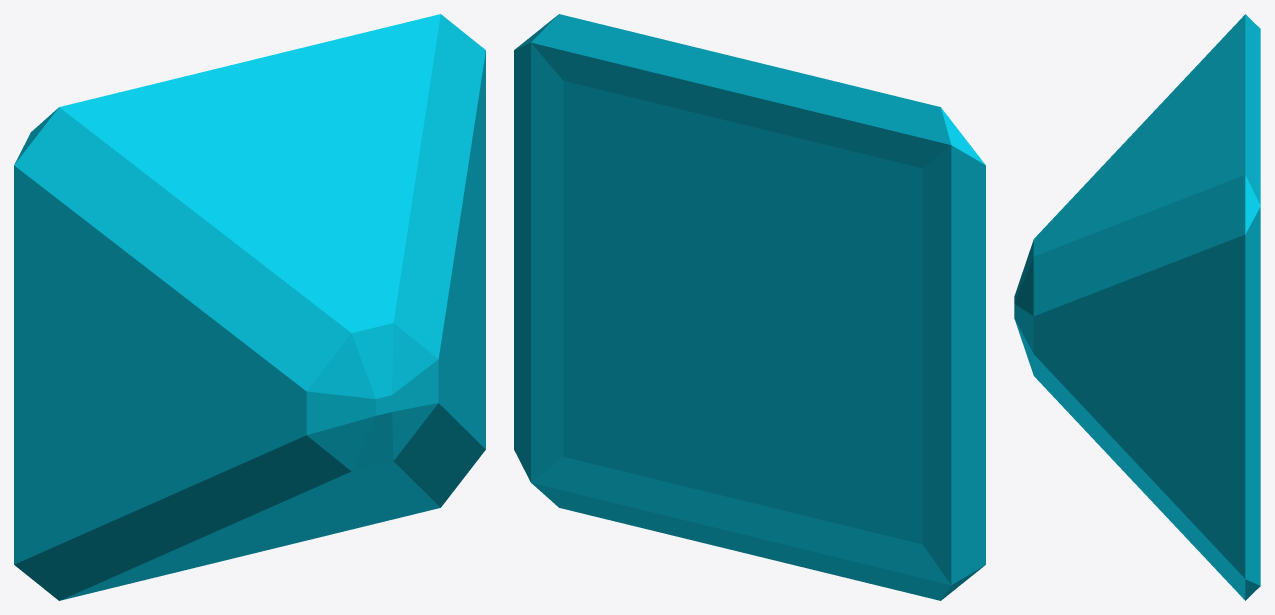
Rendered from path_marker.glb.
3 renders of one model, left to right at view 1: azimuth 30°, elevation 25°; view 2: azimuth 150°, elevation 25°; view 3: azimuth 270°, elevation 25°, orthographic. The views are drawn at different scales.
Visible parts, largest first — view 1: path_marker; view 2: path_marker; view 3: path_marker.
Part boxes in pixels (box(x1,y1,x2,y2)): path_marker: box(14, 14, 485, 600); path_marker: box(514, 14, 985, 600); path_marker: box(1014, 14, 1260, 600).
Bounding box in the file's own units: 0.4688 × 0.4688 × 0.2457.
